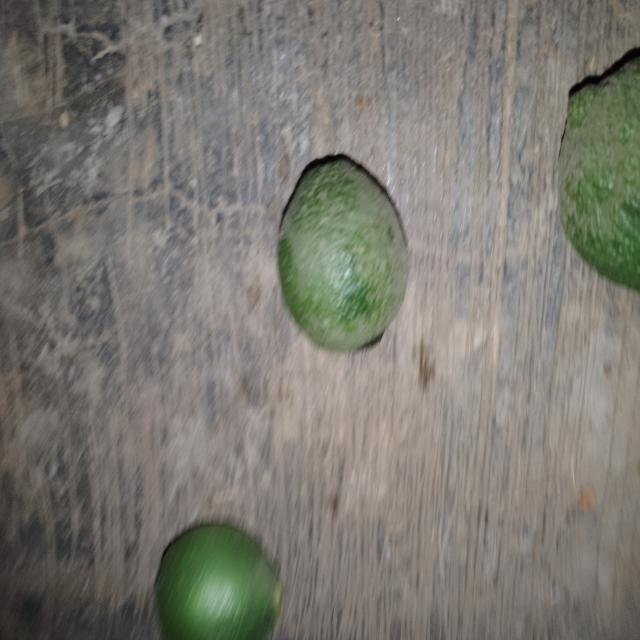Unripe: (263, 150, 429, 359), (140, 511, 291, 640)
